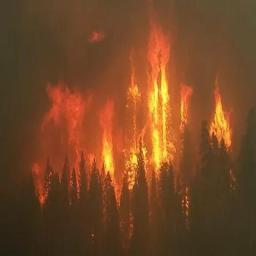Large fire: (23, 6, 243, 235)
